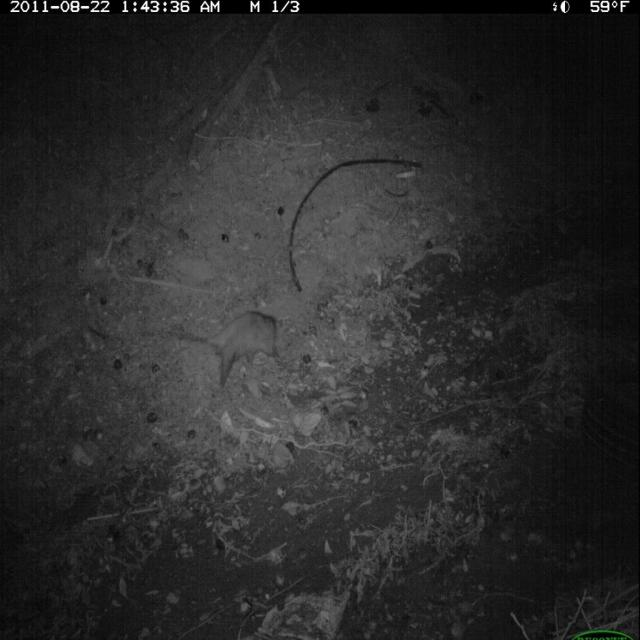opossum: (185, 305, 287, 393)
